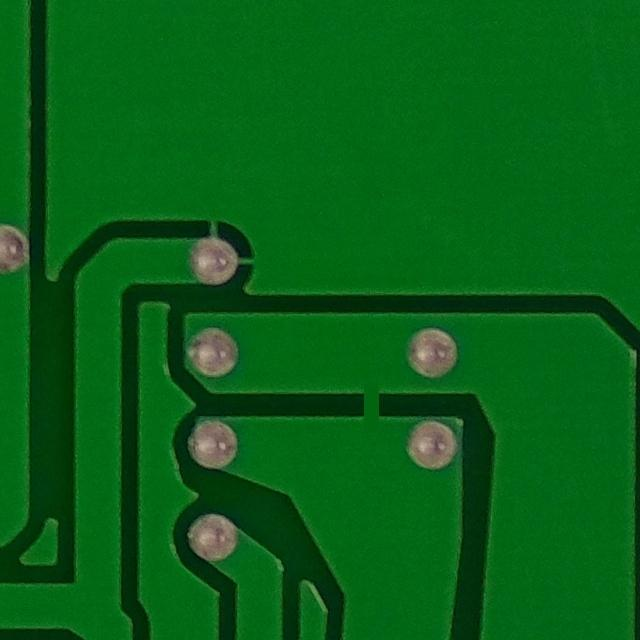short: (328, 344, 426, 461)
